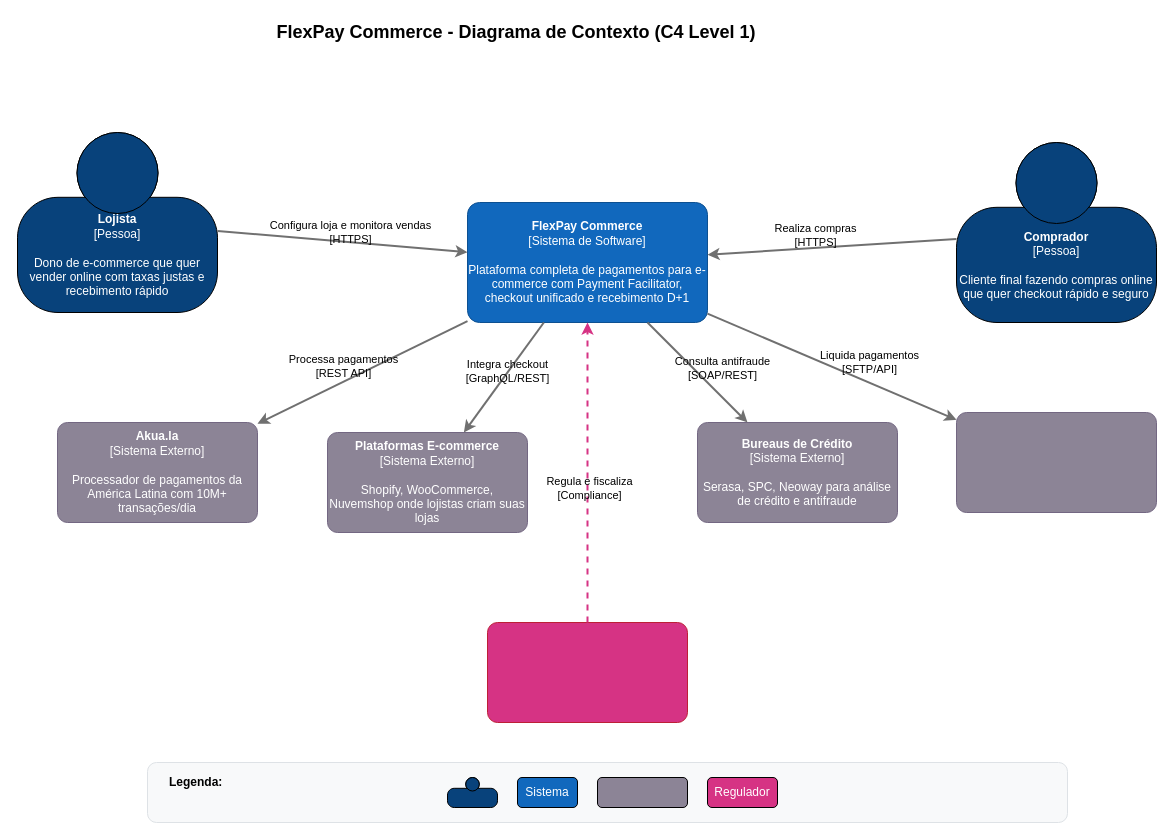
This 1174x840 diagram has some shape labels left out. The centre of each missing label's shape, as x and y in pixels:
Banco Central [Sistema Externo] Regulador do sistema financeiro brasileiro: point (587, 672)
Bancos [Sistema Externo] Contas bancárias para float e liquidação de pagamentos: point (1056, 462)
Pessoa: point (472, 792)
Sistema Externo: point (642, 792)
